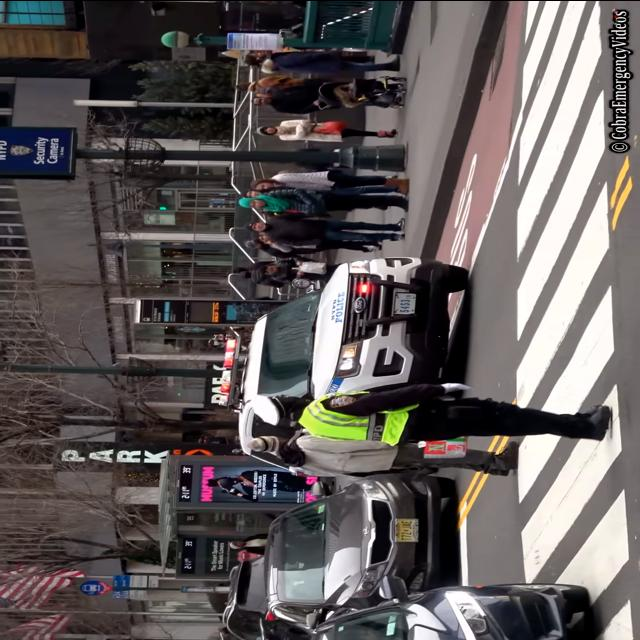emergency-vehicles: (212, 251, 479, 478)
